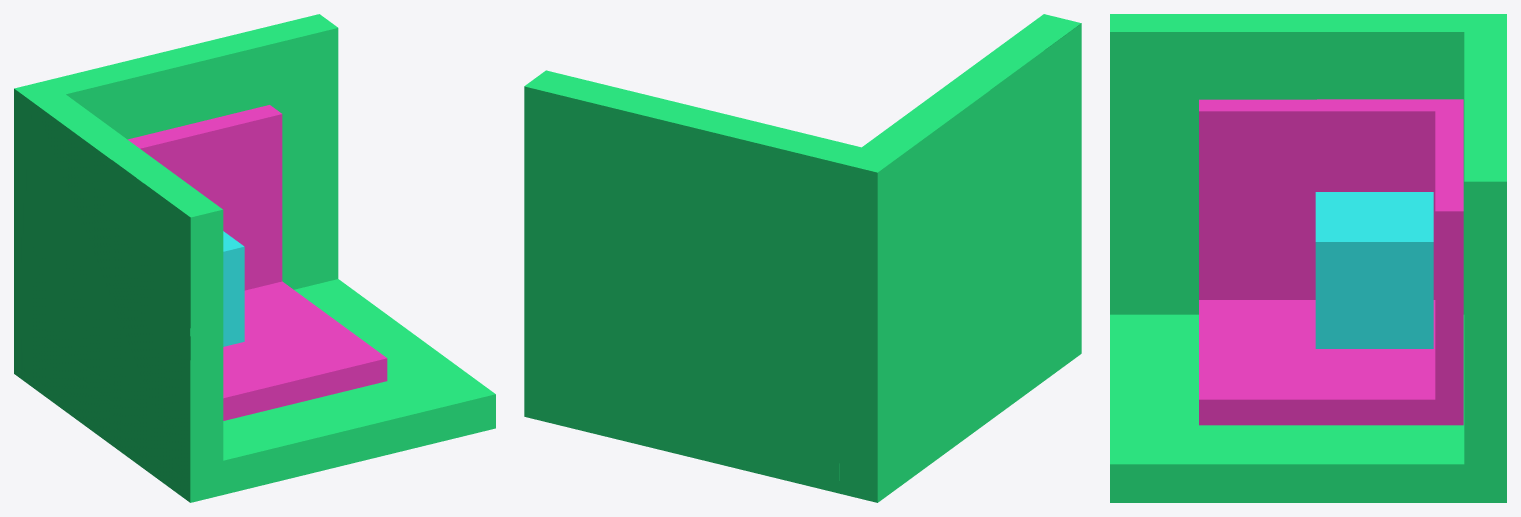
The model's file is project.glb.
3 renders of one model, left to right at view 1: azimuth 30°, elevation 25°; view 2: azimuth 150°, elevation 25°; view 3: azimuth 270°, elevation 25°, orthographic. The views are drawn at different scales.
Visible parts, largest first — view 1: Green, Magenta, Cyan - baked; view 2: Green; view 3: Green, Magenta, Cyan - baked.
Boxes of the visible parts, bbox=[...] form: Green: bbox=[14, 14, 495, 502]; Magenta: bbox=[127, 105, 387, 420]; Cyan - baked: bbox=[223, 231, 244, 346]; Green: bbox=[524, 14, 1081, 502]; Green: bbox=[1110, 14, 1506, 502]; Magenta: bbox=[1199, 99, 1463, 425]; Cyan - baked: bbox=[1315, 192, 1433, 348].
Size of the model in its own units: 0.084 by 0.075 by 0.084.
